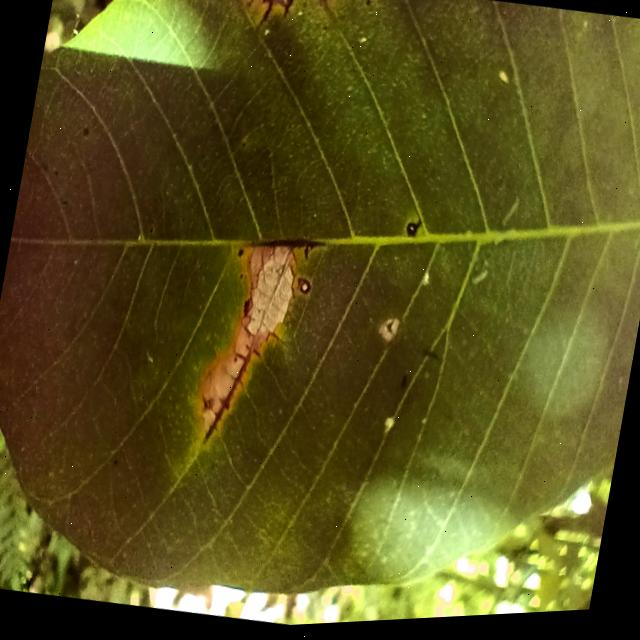Colletotrichum: (297, 281, 311, 298), (404, 225, 416, 241)
Corynespora: (201, 340, 260, 451), (250, 231, 326, 265), (254, 3, 271, 34), (318, 0, 347, 11)
Leaf-Blight: (234, 244, 299, 354), (228, 0, 291, 12)
